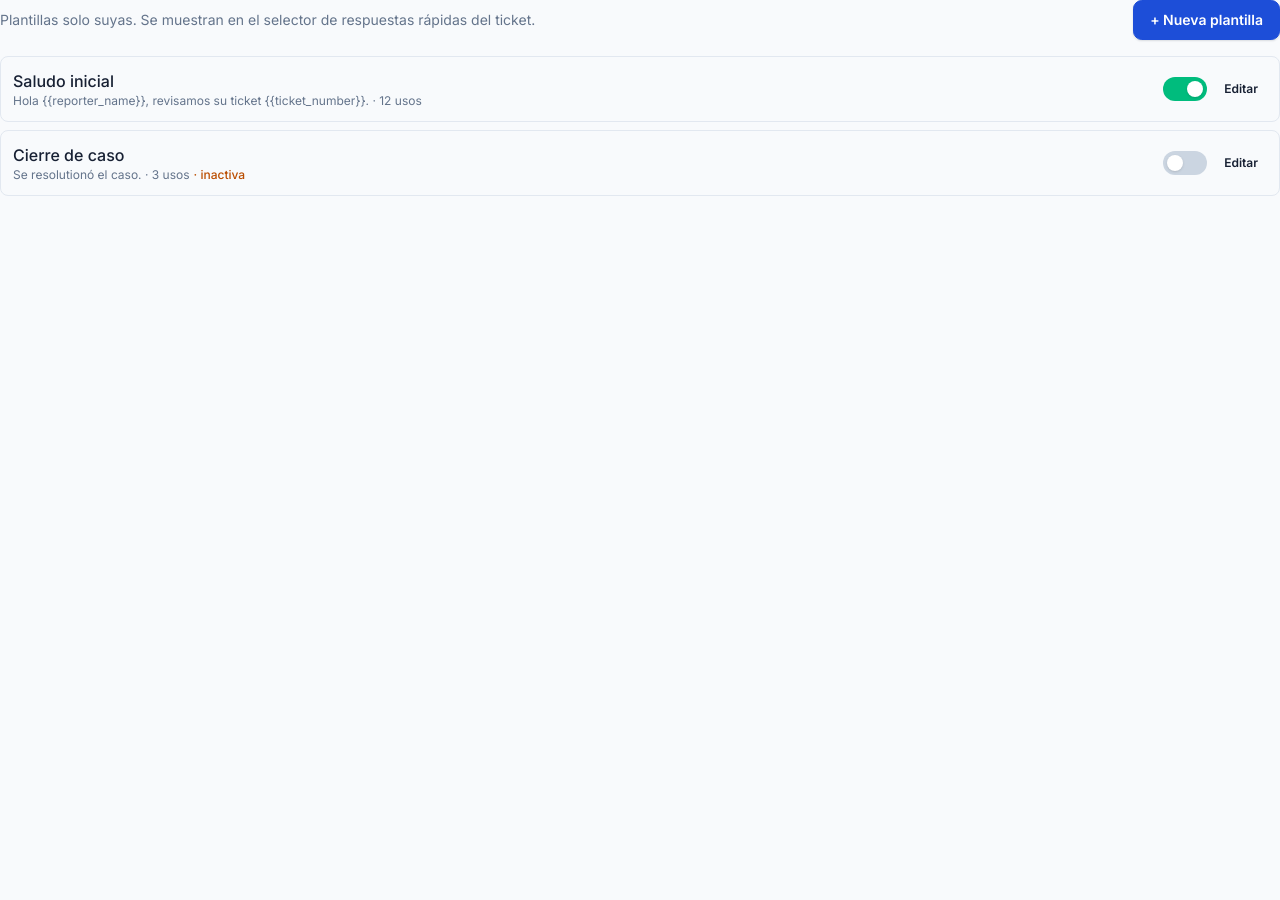
MyTemplates · creación y edición › precarga el modal de edición con los datos existentes
Check: the text "Saludo inicial" is shown, box x1=13 y1=71 x2=114 y2=91
Click the button "Editar" in the row of "Cierre de caso": [1241, 163] box x1=1215 y1=143 x2=1267 y2=183
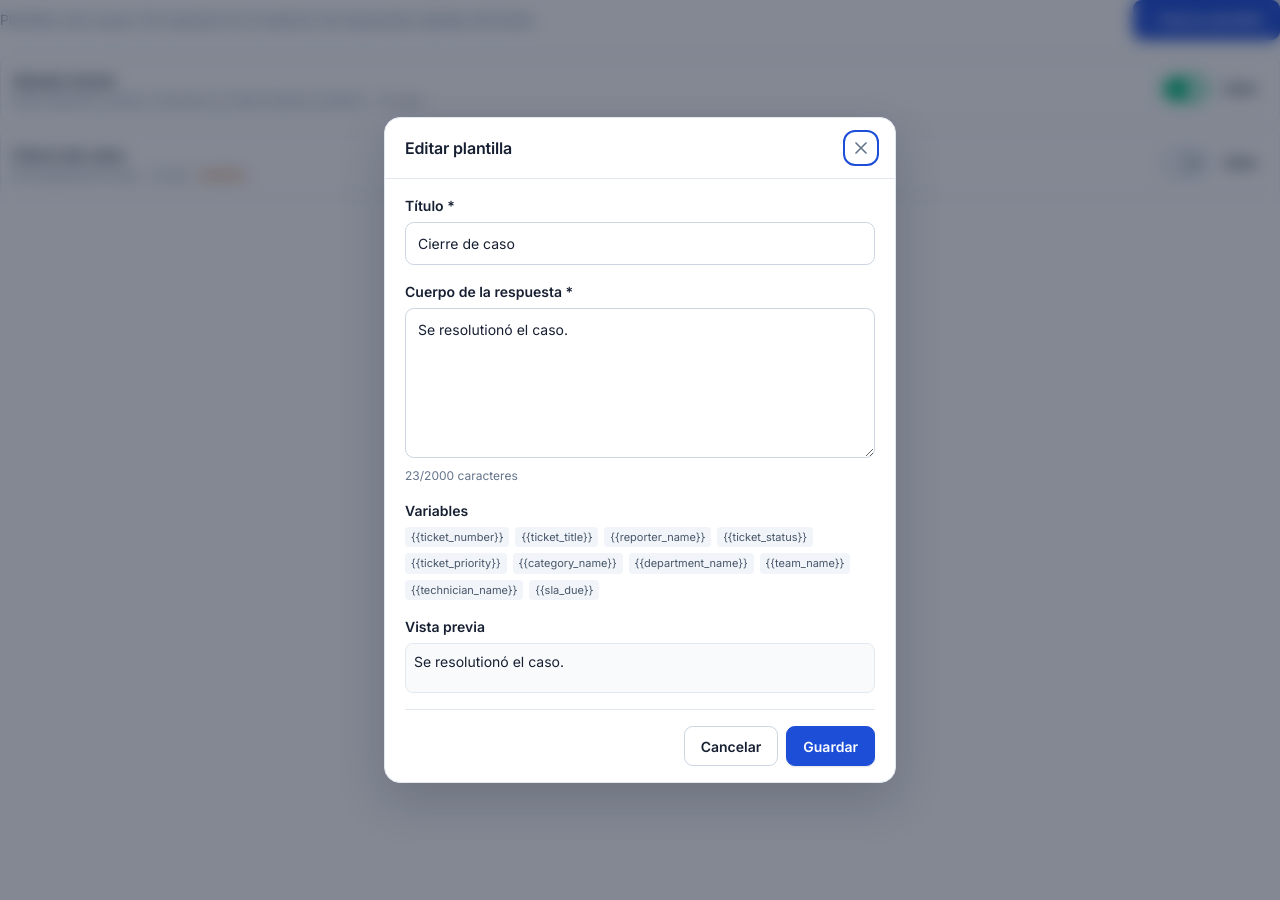
Check: the field labelled "Título *" holds "Cierre de caso", box x1=405 y1=222 x2=875 y2=265
Check: the text box labelled "Cuerpo de la respuesta *" holds "Se resolutionó el caso.", box x1=405 y1=308 x2=875 y2=458
